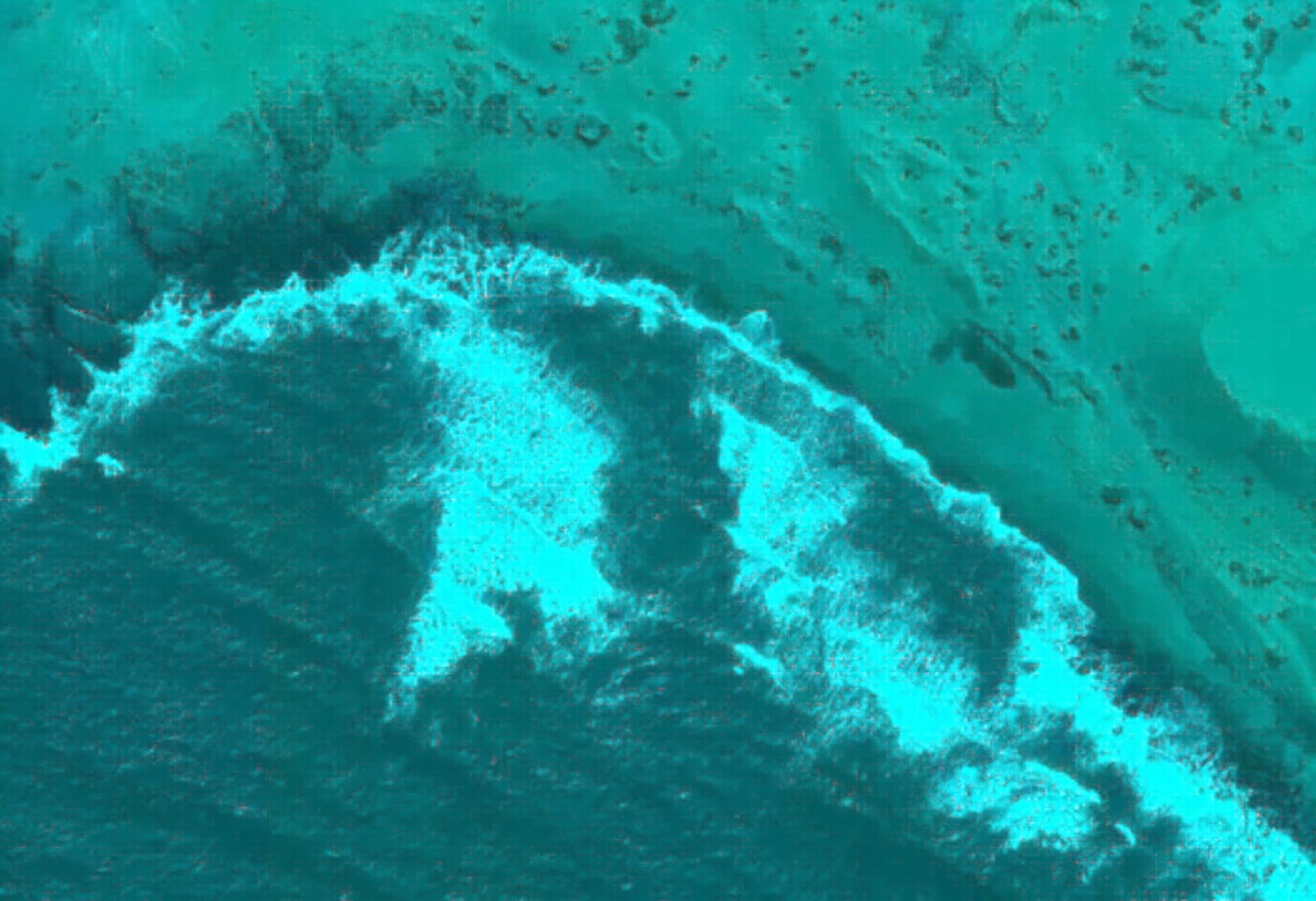rip_current: (473, 256, 798, 714)
